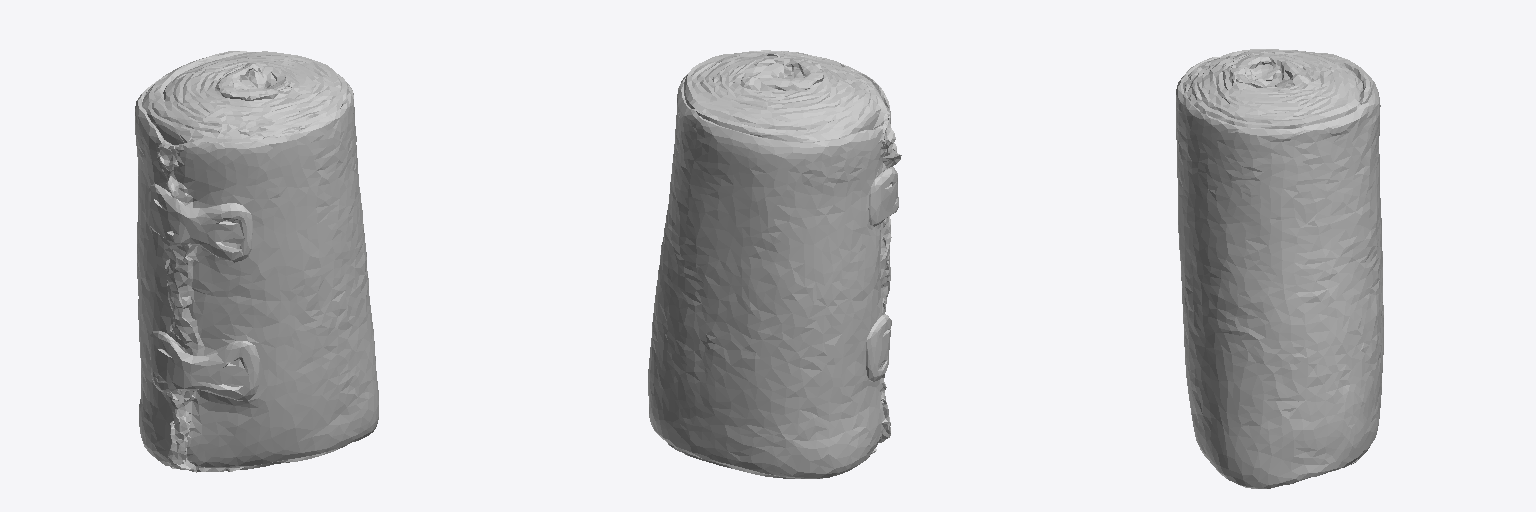
The model's file is Elastic_Bandage_Roll_0509110440_texture.obj.
3 views of the same model, side by side, from view 1: azimuth 30°, elevation 25°; view 2: azimuth 150°, elevation 25°; view 3: azimuth 270°, elevation 25° (orthographic).
Visible parts, largest first — view 1: Elastic_Bandage_Roll_[number redacted]_texture; view 2: Elastic_Bandage_Roll_[number redacted]_texture; view 3: Elastic_Bandage_Roll_[number redacted]_texture.
Part boxes in pixels (left/top/right/bottom): Elastic_Bandage_Roll_[number redacted]_texture: left=135, top=51, right=378, bottom=472; Elastic_Bandage_Roll_[number redacted]_texture: left=648, top=50, right=901, bottom=478; Elastic_Bandage_Roll_[number redacted]_texture: left=1176, top=49, right=1383, bottom=488.
Size of the model in its own units: 1.25 by 1.99 by 1.02.